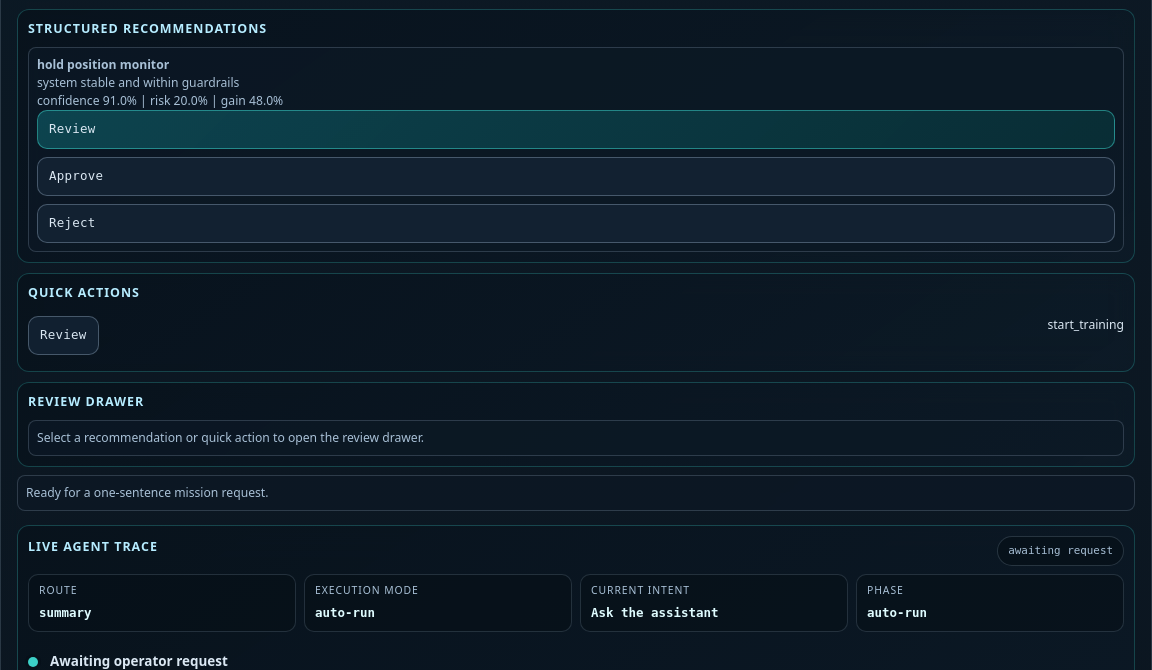
Test: HUD AI interaction console › approves a reviewed action and records the decision
(page scrolled)
Click the button "Review" in the row of "start_training". click: click(63, 336)
box: [28,316,98,355]
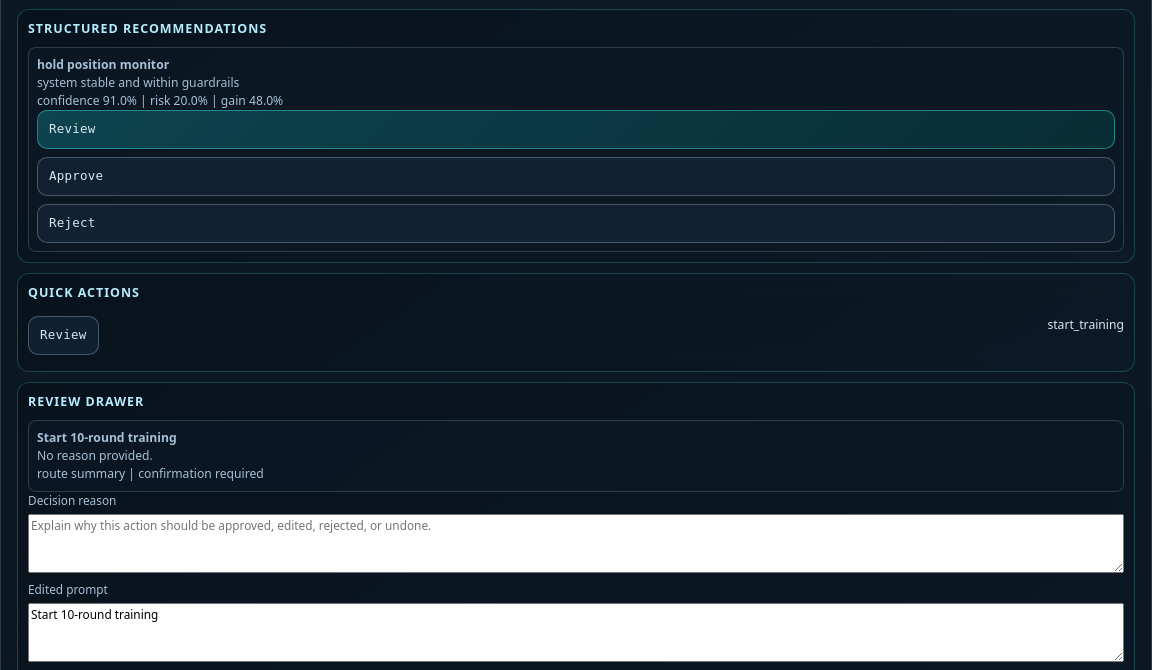
Replace the text in the text box labelled "Decision reason" with "fits the current maintenance window". click: (576, 544)
box: [28,514,1124,573]
(page scrolled)
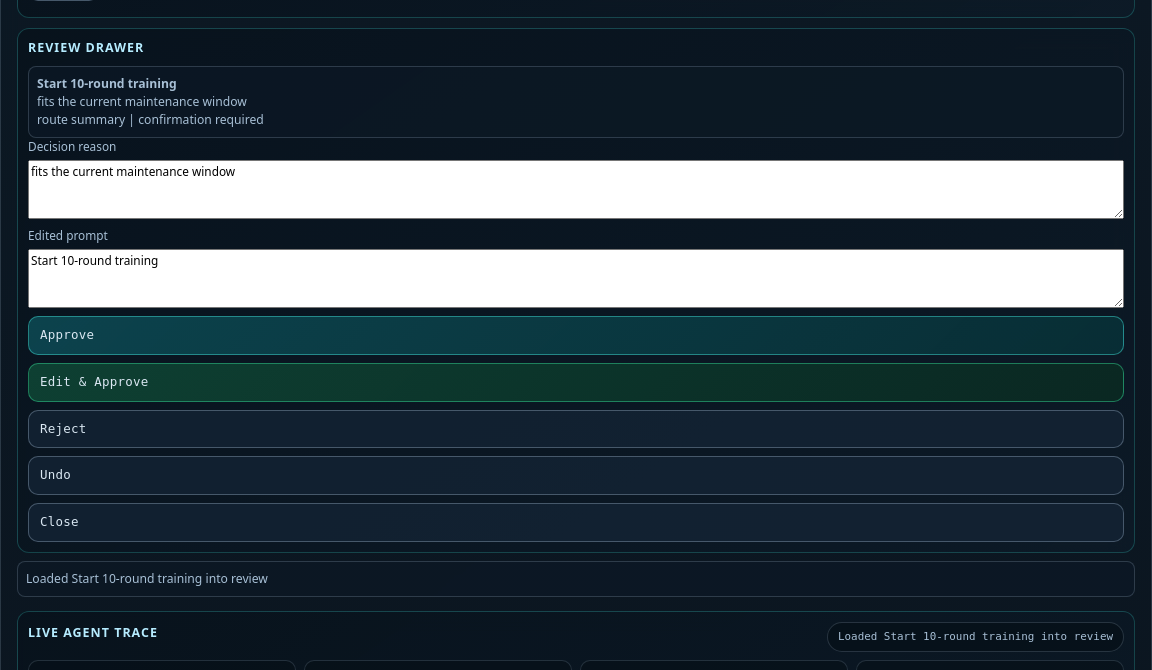
Click the button "Approve". click: click(67, 335)
box: [28,316,1124,355]
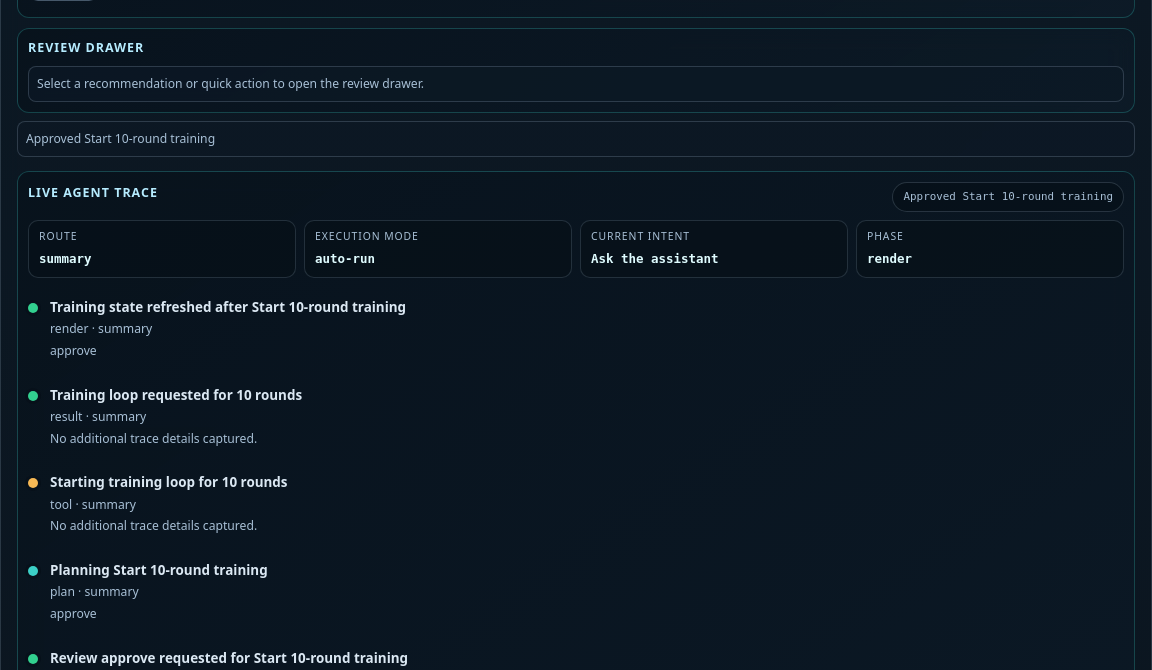
Check: the 1st text "approve" is shown, box [50,342,97,359]
